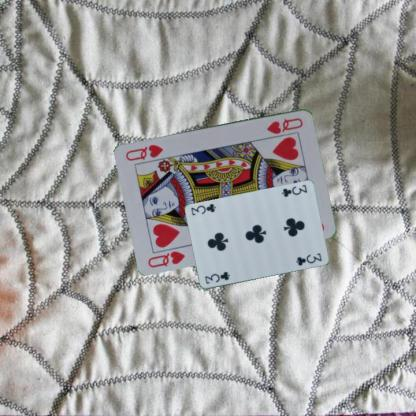3c: (202, 269, 231, 285), (279, 183, 308, 198)
Qh: (146, 248, 186, 269), (264, 115, 305, 135)
